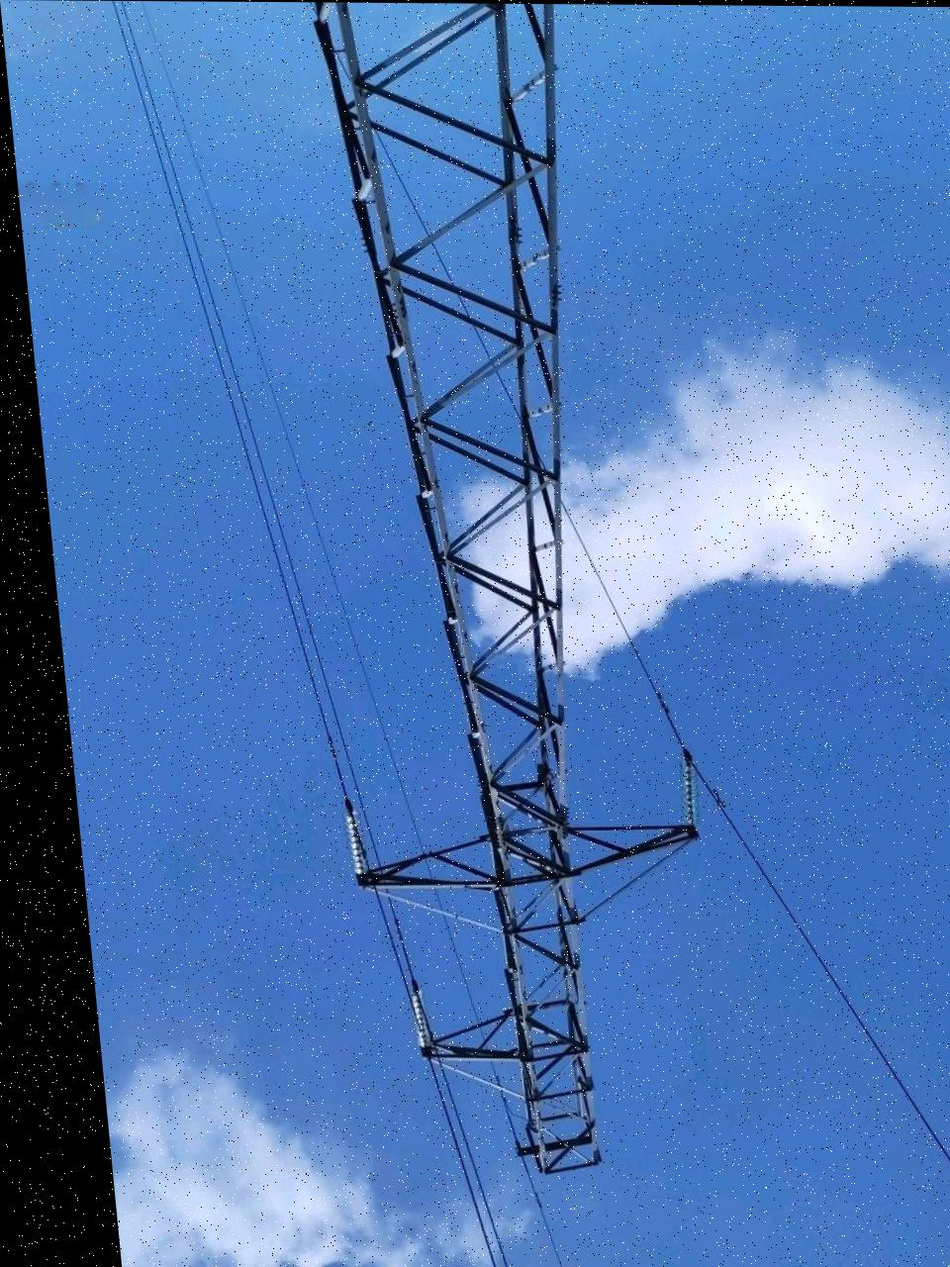tower: (261, 2, 744, 1194)
